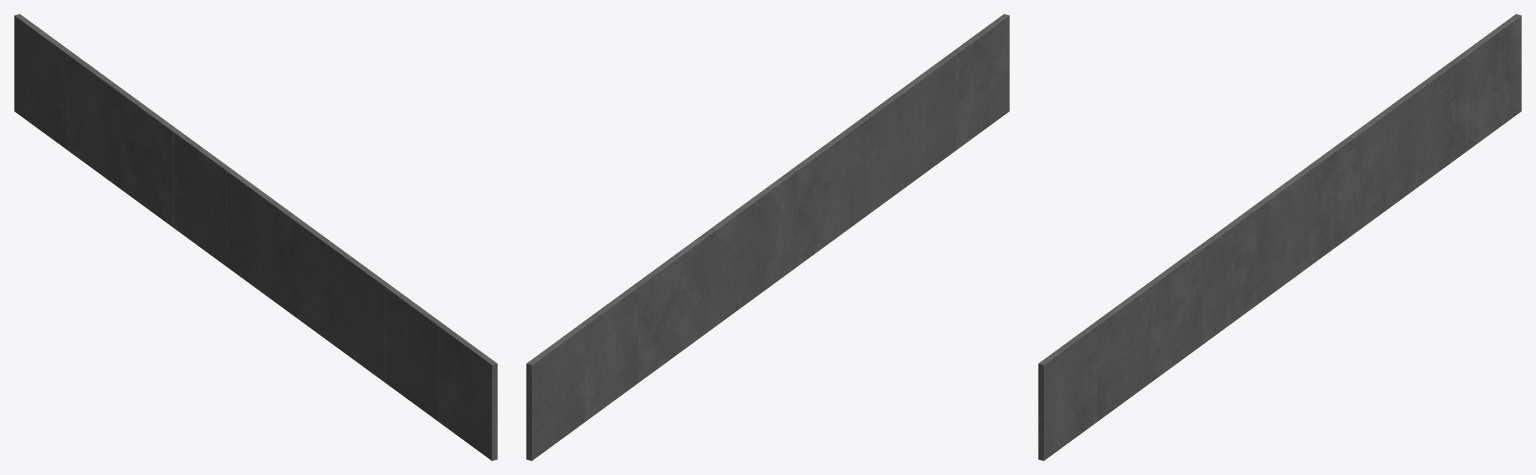
Rendered from cP_Pathway03_Small_Comb02.dae.
The picture shows the model from 3 angles, left to right: view 1: azimuth 30°, elevation 25°; view 2: azimuth 150°, elevation 25°; view 3: azimuth 330°, elevation 25°; orthographic projection.
Parts seen in each view (by area): view 1: cP_Pathway03_Small_Comb02.001; view 2: cP_Pathway03_Small_Comb02.001; view 3: cP_Pathway03_Small_Comb02.001.
Boxes of the visible parts, x1=… form: cP_Pathway03_Small_Comb02.001: x1=14, y1=14, x2=497, y2=460; cP_Pathway03_Small_Comb02.001: x1=526, y1=14, x2=1009, y2=460; cP_Pathway03_Small_Comb02.001: x1=1038, y1=14, x2=1521, y2=460.
Size of the model in its own units: 0.0653 by 9 by 1.
